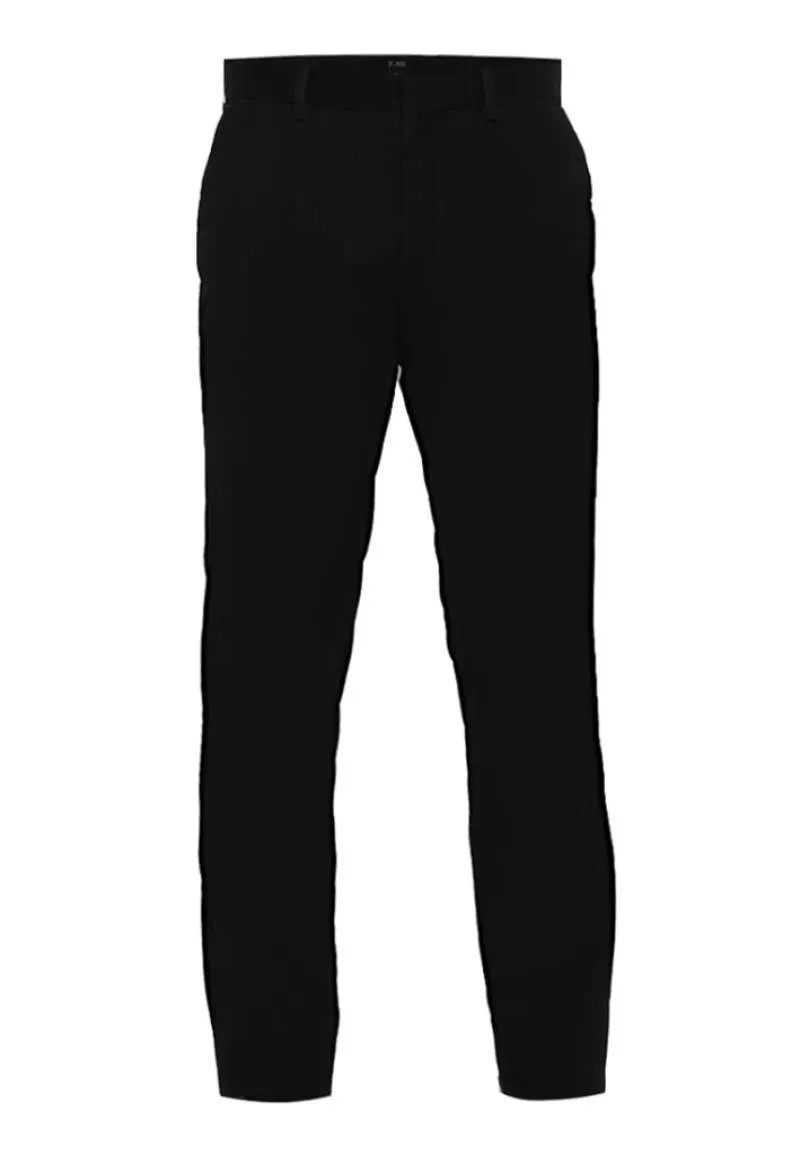celana_benar: (200, 50, 641, 1129)
